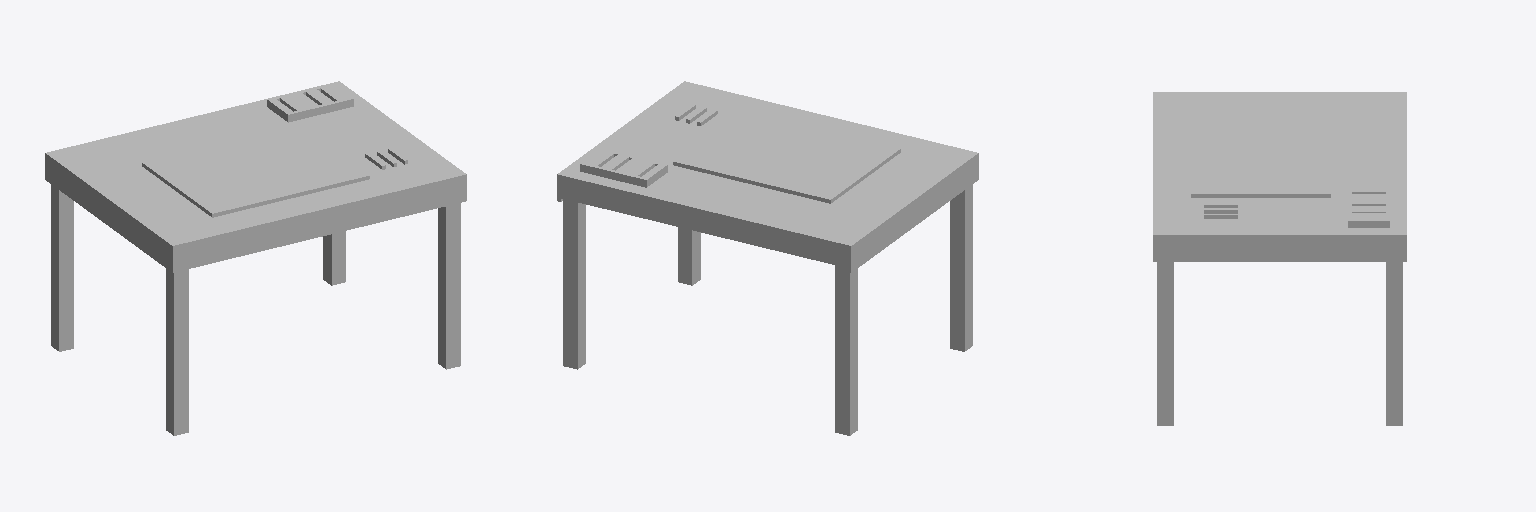
The model's file is tukue 1.obj.
3 views of the same model, side by side, from view 1: azimuth 30°, elevation 25°; view 2: azimuth 150°, elevation 25°; view 3: azimuth 270°, elevation 25° (orthographic).
Parts seen in each view (by area): view 1: object 1; view 2: object 1; view 3: object 1.
Part boxes in pixels (x1,y1,x2,y2): object 1: (45,81,466,435); object 1: (557,81,978,435); object 1: (1153,92,1406,425).
Bounding box in the file's own units: 8 × 5.2 × 6.